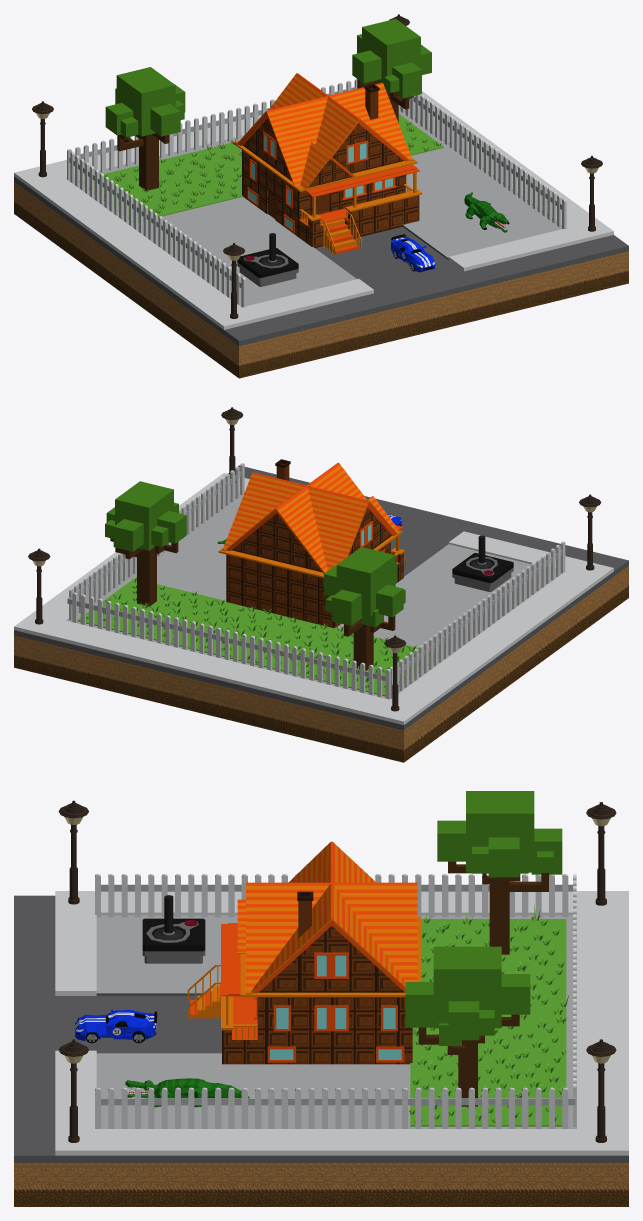
3 views of the same model, one above another, from view 1: azimuth 30°, elevation 25°; view 2: azimuth 150°, elevation 25°; view 3: azimuth 270°, elevation 25° (orthographic). The views are drawn at different scales.
Visible parts, largest first — view 1: Cube.004, Cube, OBJRANDOM_JOYSTICK, VEHICLES_RACING_CAR, ANIMAL_COCODRILO; view 2: Cube.004, Cube, OBJRANDOM_JOYSTICK; view 3: Cube.004, Cube, OBJRANDOM_JOYSTICK, VEHICLES_RACING_CAR, ANIMAL_COCODRILO.
Boxes of the visible parts, x1,y1,x2,y2 form: Cube.004: [14, 14, 628, 378]; Cube: [233, 73, 422, 255]; OBJRANDOM_JOYSTICK: [237, 233, 298, 286]; VEHICLES_RACING_CAR: [390, 234, 435, 272]; ANIMAL_COCODRILO: [464, 192, 509, 232]; Cube.004: [14, 407, 628, 762]; Cube: [218, 459, 406, 627]; OBJRANDOM_JOYSTICK: [452, 535, 513, 591]; Cube.004: [14, 791, 628, 1206]; Cube: [187, 841, 421, 1064]; OBJRANDOM_JOYSTICK: [142, 895, 205, 963]; VEHICLES_RACING_CAR: [74, 1009, 157, 1043]; ANIMAL_COCODRILO: [125, 1078, 249, 1107].
Bounding box in the file's own units: 4000 × 1702 × 4000.
Materials: 36 (4 with a texture image).
